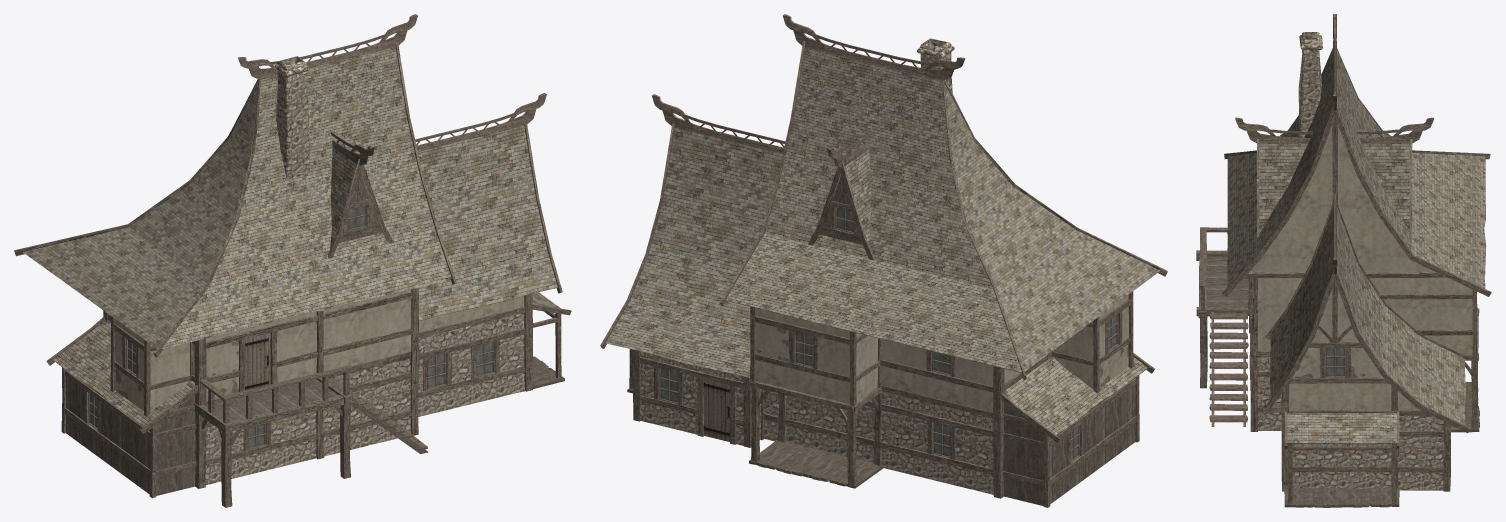
File: mw_type_2_cottage_04.FBX
3 renders of one model, left to right at view 1: azimuth 30°, elevation 25°; view 2: azimuth 150°, elevation 25°; view 3: azimuth 270°, elevation 25°, orthographic. The views are drawn at different scales.
Visible parts, largest first — view 1: mw_type_2_cottage_building_04_roof, mw_type_2_cottage_building_04_wood, mw_type_2_cottage_building_04_stone, mw_type_2_cottage_building_04_wall, mw_type_2_cottage_building_04; view 2: mw_type_2_cottage_building_04_roof, mw_type_2_cottage_building_04_wood, mw_type_2_cottage_building_04_stone, mw_type_2_cottage_building_04_wall, mw_type_2_cottage_building_04, mw_type_2_cottage_building_04_wood_02; view 3: mw_type_2_cottage_building_04_roof, mw_type_2_cottage_building_04_wood, mw_type_2_cottage_building_04_wall, mw_type_2_cottage_building_04_stone, mw_type_2_cottage_building_04_wood_02, mw_type_2_cottage_building_04.
Part boxes in pixels (x1,y1,x2,y2): mw_type_2_cottage_building_04_roof: [23, 47, 560, 426]; mw_type_2_cottage_building_04_wood: [14, 14, 571, 507]; mw_type_2_cottage_building_04_stone: [205, 56, 524, 484]; mw_type_2_cottage_building_04_wall: [115, 290, 524, 411]; mw_type_2_cottage_building_04: [88, 205, 494, 449]; mw_type_2_cottage_building_04_roof: [606, 47, 1159, 434]; mw_type_2_cottage_building_04_wood: [600, 14, 1167, 507]; mw_type_2_cottage_building_04_stone: [640, 38, 993, 494]; mw_type_2_cottage_building_04_wall: [755, 295, 1128, 412]; mw_type_2_cottage_building_04: [659, 207, 1118, 462]; mw_type_2_cottage_building_04_wood_02: [627, 388, 883, 488]; mw_type_2_cottage_building_04_roof: [1227, 50, 1486, 444]; mw_type_2_cottage_building_04_wood: [1196, 14, 1491, 506]; mw_type_2_cottage_building_04_wall: [1249, 125, 1472, 410]; mw_type_2_cottage_building_04_stone: [1257, 32, 1443, 490]; mw_type_2_cottage_building_04_wood_02: [1284, 382, 1479, 507]; mw_type_2_cottage_building_04: [1325, 347, 1345, 377].
Size of the model in its own units: 2226 by 1781 by 1339.
